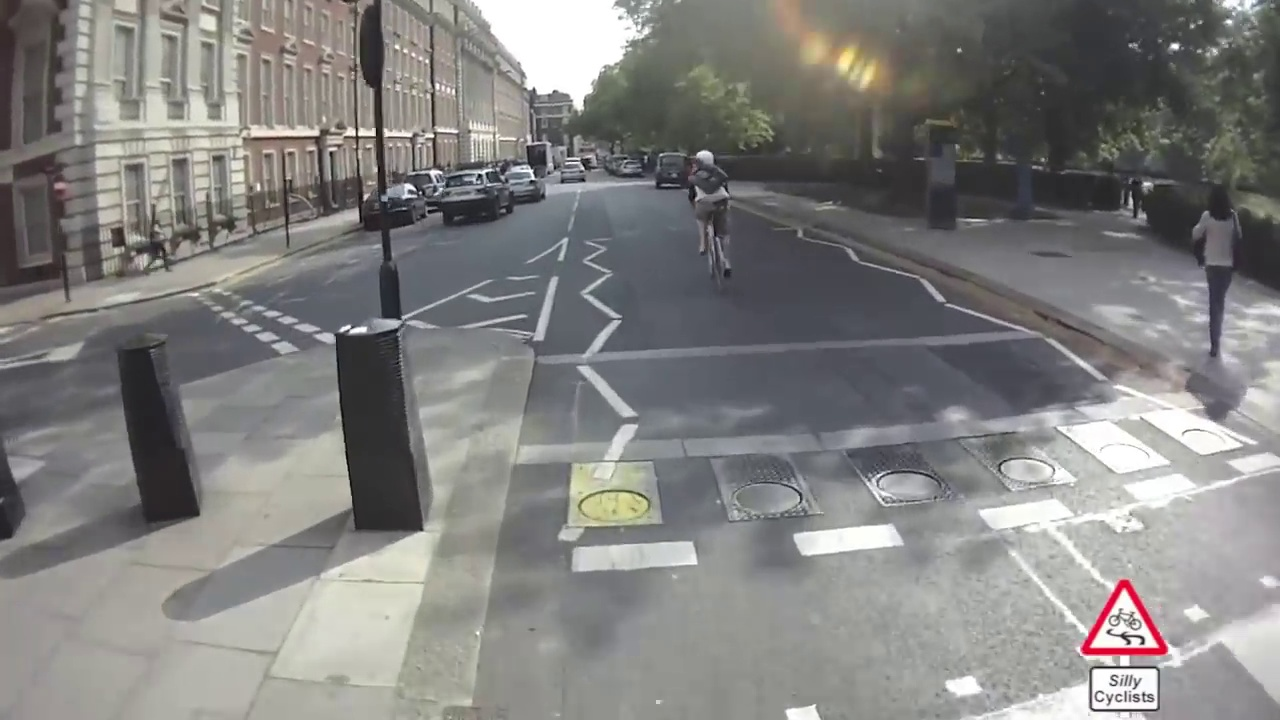cyclist_back: (675, 130, 741, 295)
